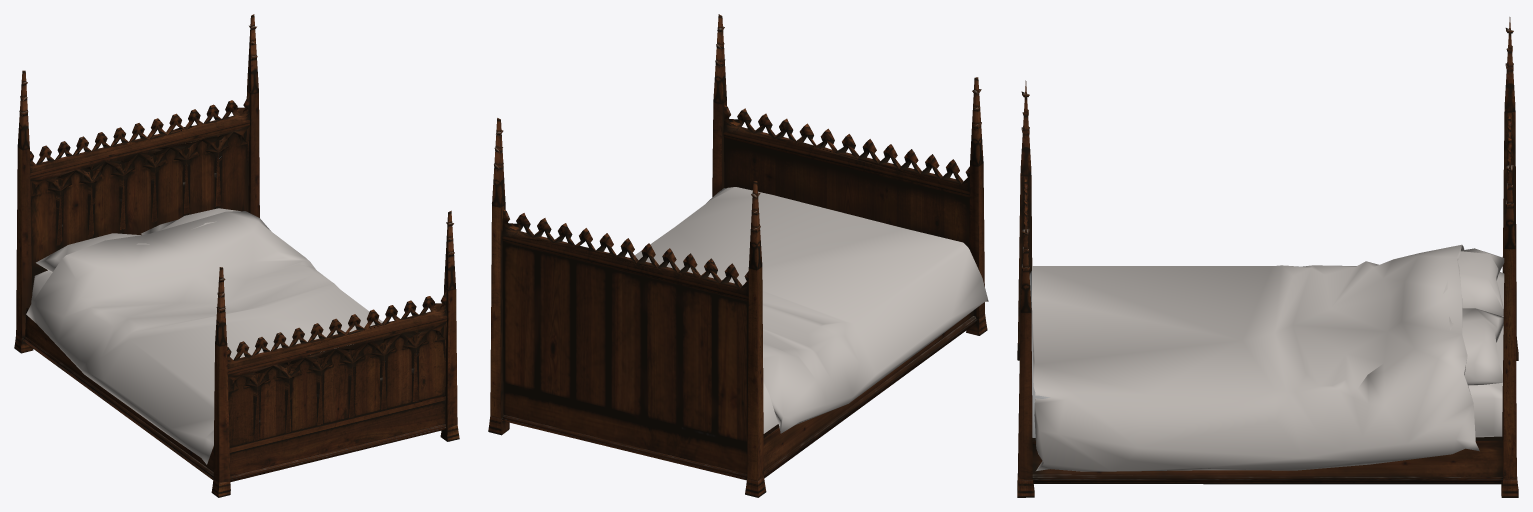
The picture shows the model from 3 angles, left to right: view 1: azimuth 30°, elevation 25°; view 2: azimuth 150°, elevation 25°; view 3: azimuth 270°, elevation 25°; orthographic projection. The views are drawn at different scales.
Visible parts, largest first — view 1: GothicBed_01; view 2: GothicBed_01; view 3: GothicBed_01.
Part boxes in pixels (x1=…): GothicBed_01: x1=14, y1=14, x2=459, y2=497; GothicBed_01: x1=488, y1=14, x2=988, y2=497; GothicBed_01: x1=1017, y1=17, x2=1518, y2=497.
Size of the model in its own units: 149 by 153 by 204.
